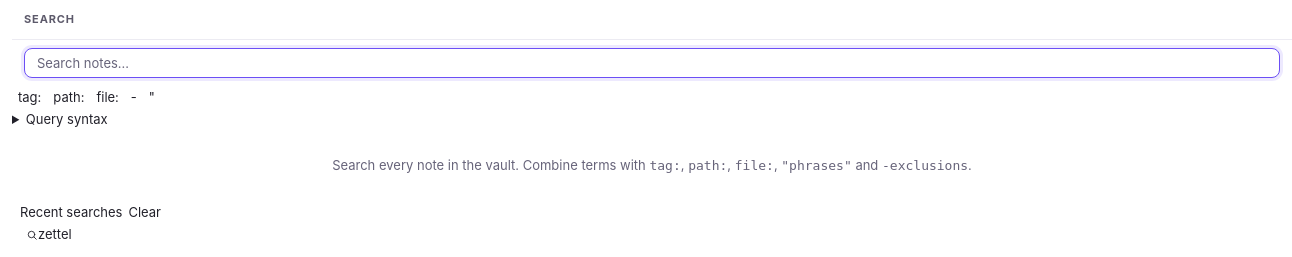
Test case: SearchPanel empty states › clears the recent search list on demand
The width and height of the screenshot is (1292, 257).
Click the button "Clear" at (145, 212), box [122,201,167,224]
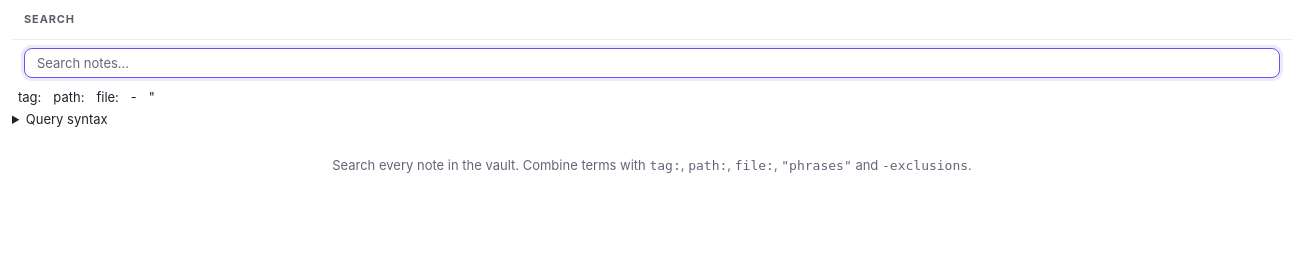
Check: the element with class "search-recent" is gone
